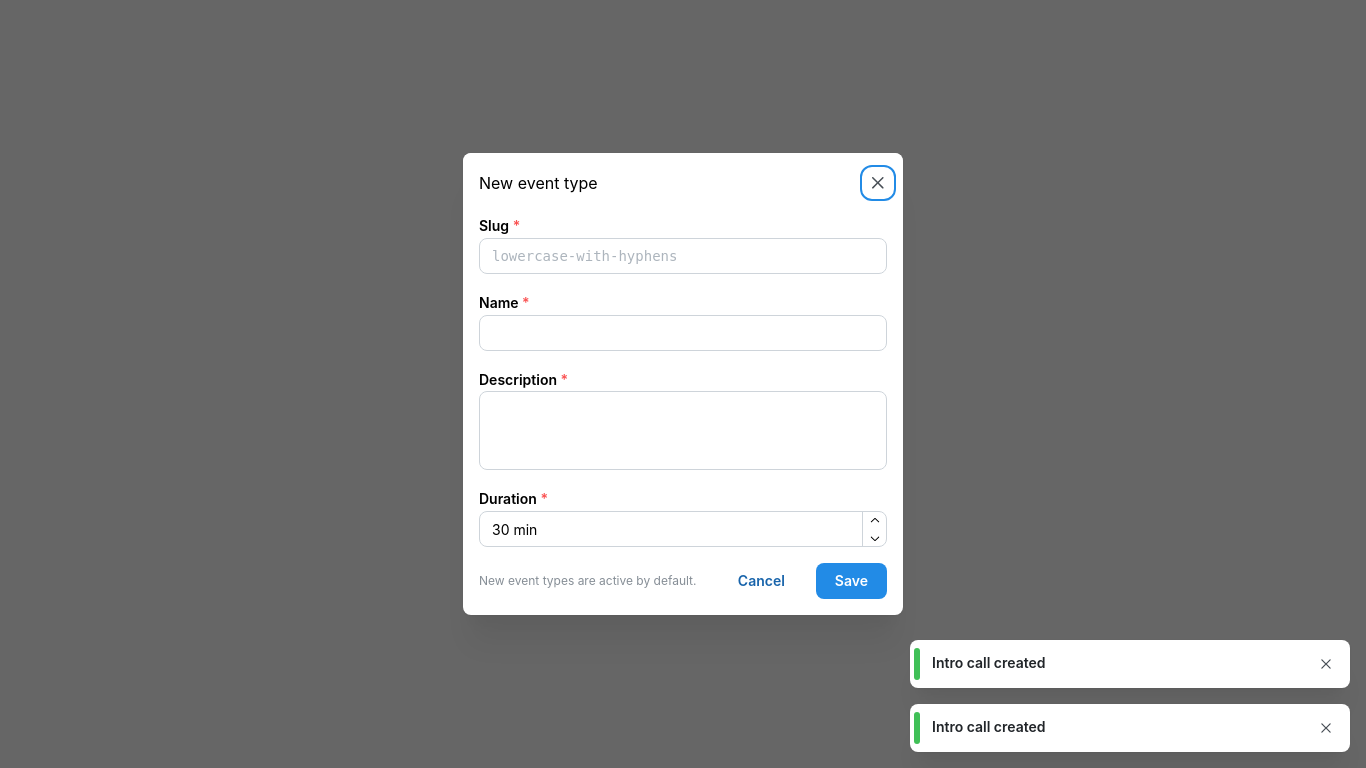
Test: EventTypeFormModal — create › shows an inline slug error on 409
Type "intro-call" into the field labelled "Slug *" at (683, 256), box [479,238,887,274]
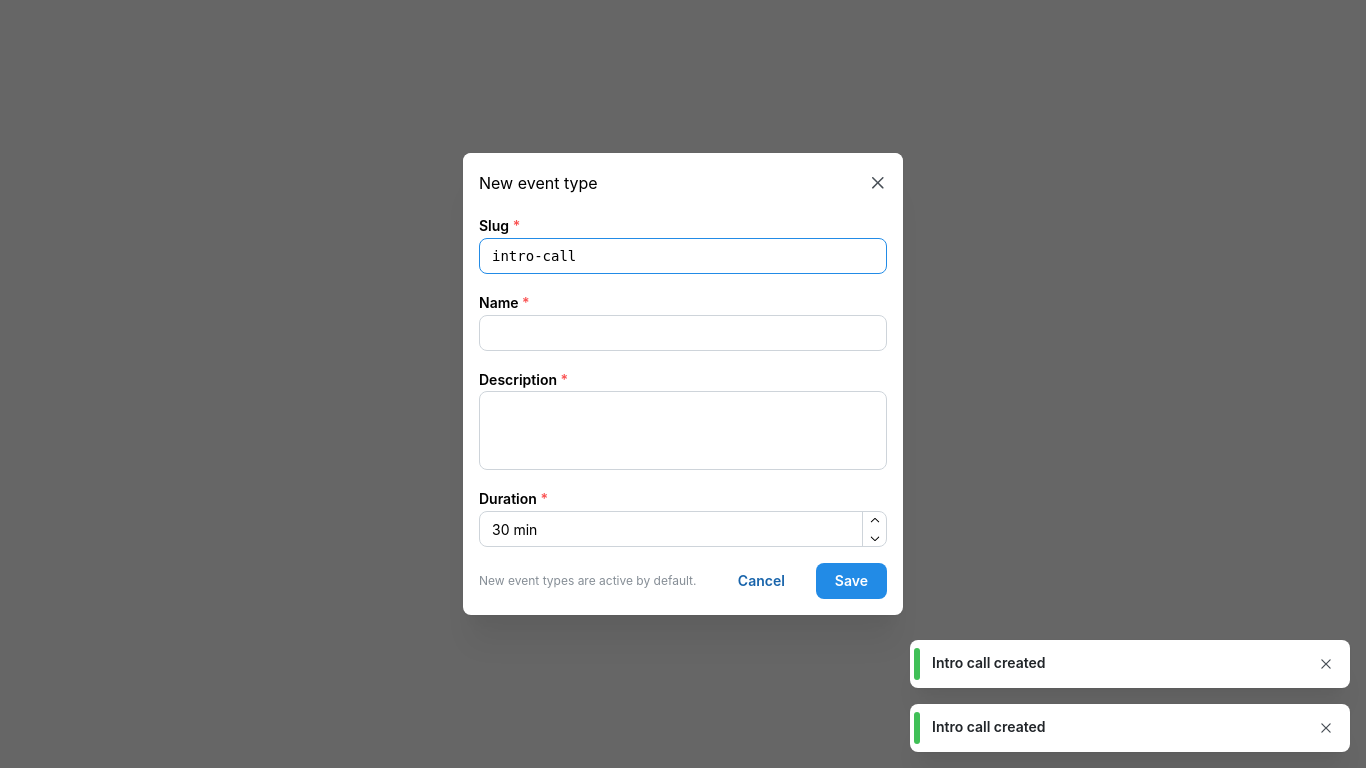
Type "X" into the field labelled "Name *" at (683, 332), box [479,314,887,350]
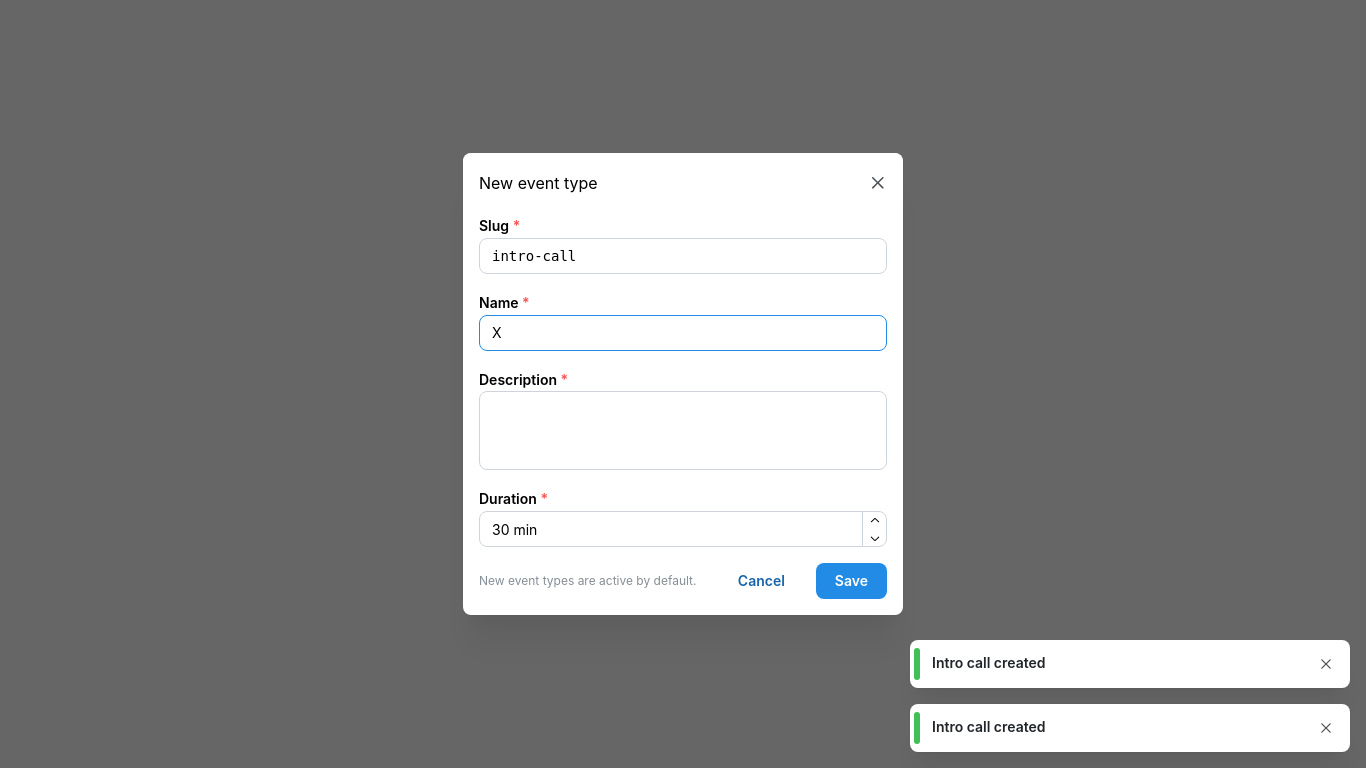
Type "Some description" into the text box labelled "Description *" at (683, 431), box [479,391,887,470]
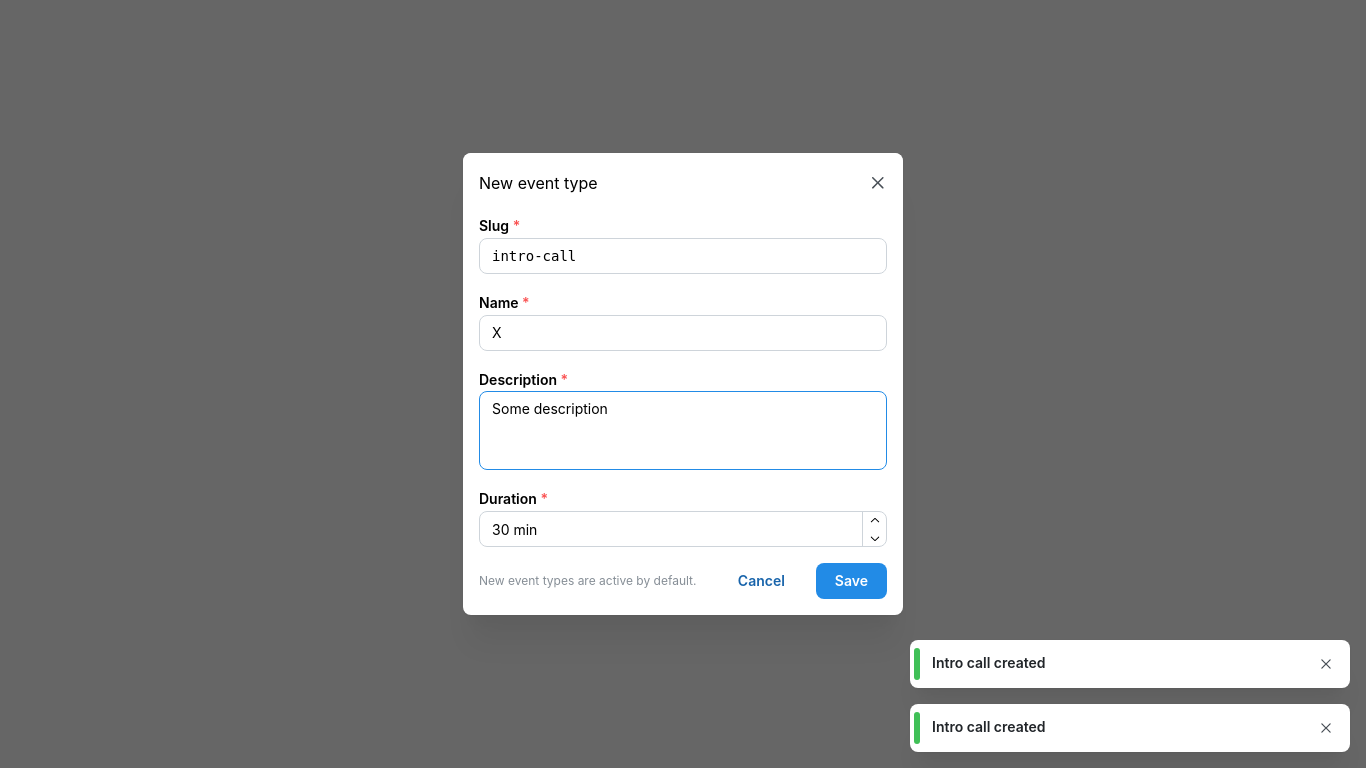
Click the button "Save" at (851, 581), box [816,563,887,599]
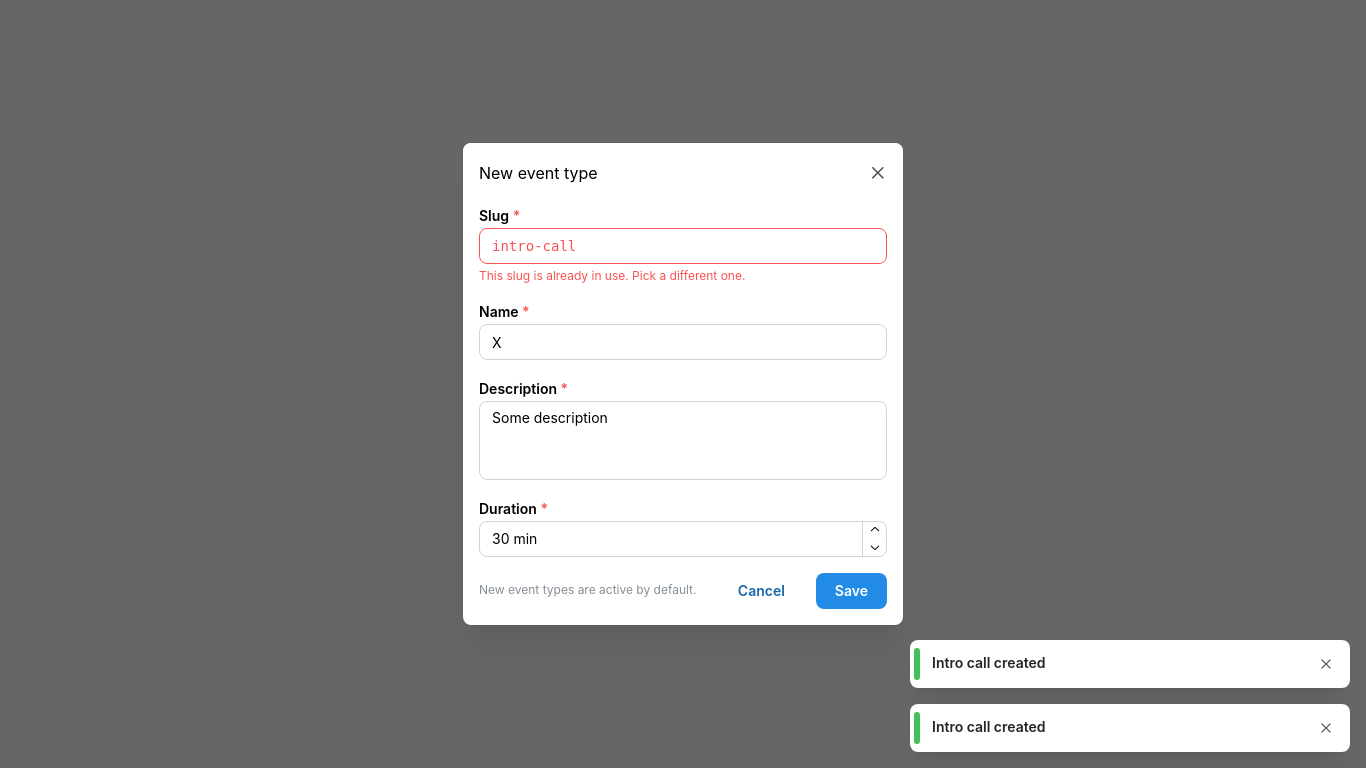
Expected: the text "This slug is already in use. Pick a different one." is shown, [479,268,745,283]
